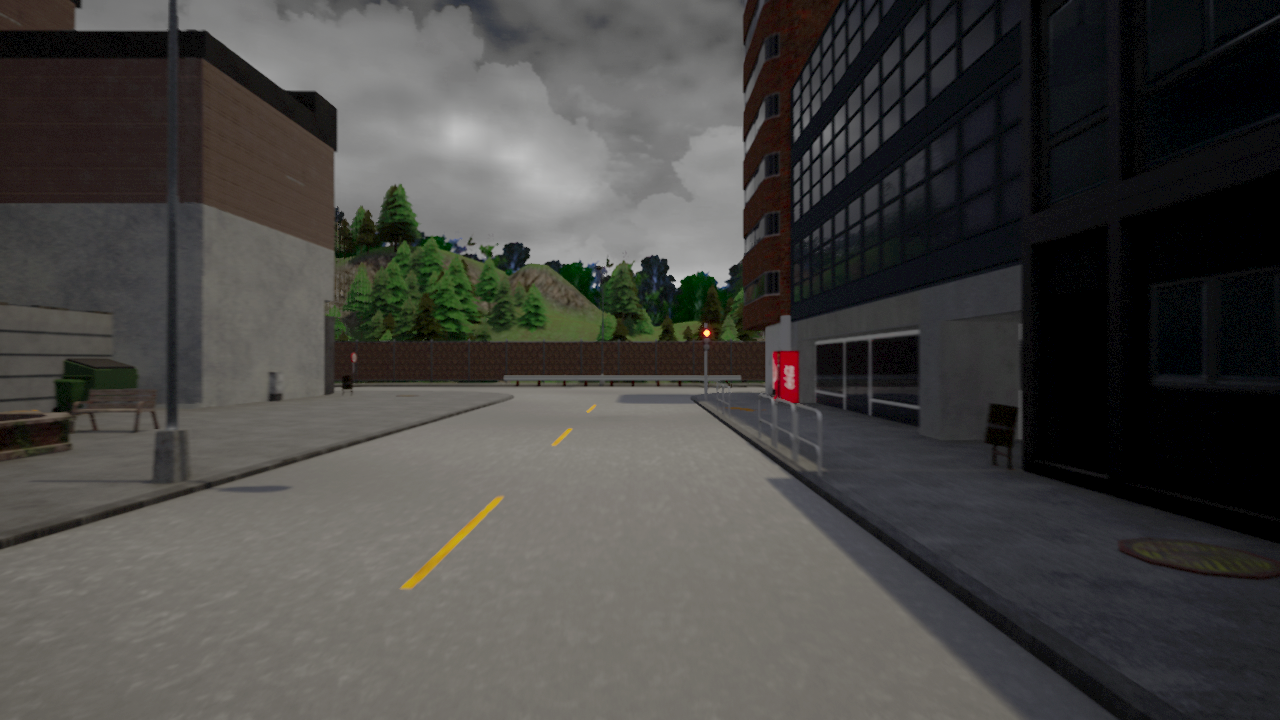red: (701, 327, 712, 351)
